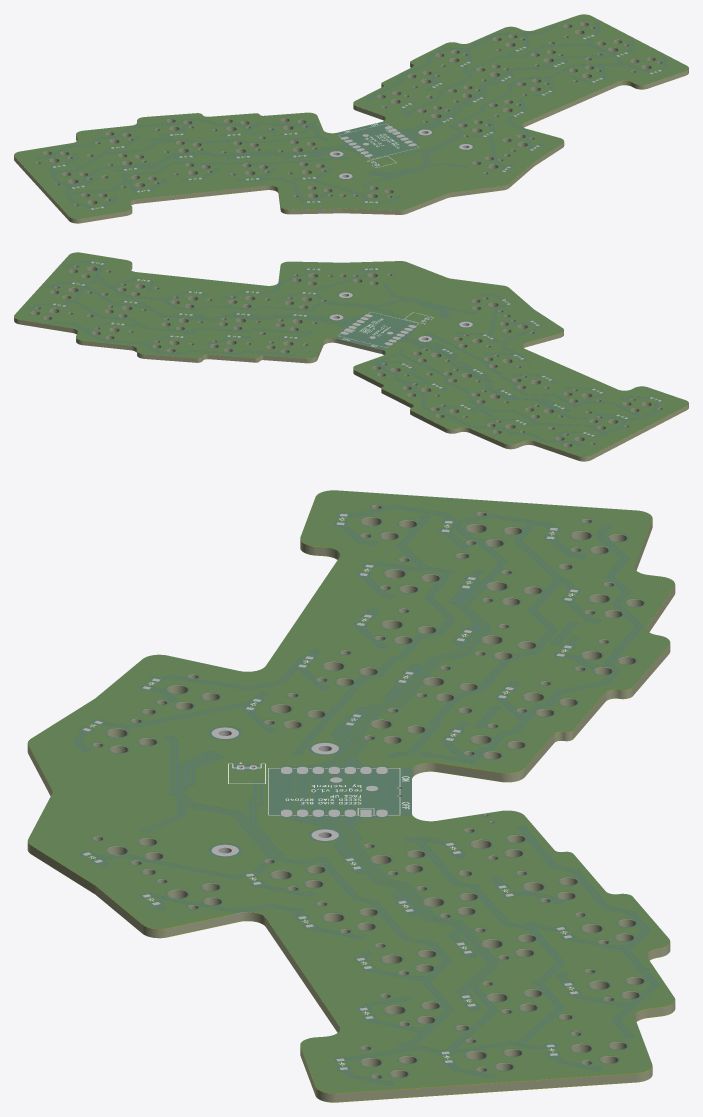
The model's file is board.glb.
The picture shows the model from 3 angles, top to bottom: view 1: azimuth 30°, elevation 25°; view 2: azimuth 150°, elevation 25°; view 3: azimuth 270°, elevation 25°; orthographic projection. The views are drawn at different scales.
Visible parts, largest first — view 1: board_soldermask, board_copper, board_PCB, board_pad, board_silkscreen; view 2: board_soldermask, board_copper, board_PCB, board_pad, board_silkscreen; view 3: board_soldermask, board_copper, board_PCB, board_pad, board_silkscreen.
Part boxes in pixels (left/top/right/bottom): board_soldermask: left=14, top=14, right=688, bottom=218; board_copper: left=14, top=15, right=688, bottom=223; board_PCB: left=14, top=22, right=688, bottom=223; board_pad: left=53, top=35, right=661, bottom=209; board_silkscreen: left=57, top=36, right=656, bottom=208; board_soldermask: left=14, top=252, right=688, bottom=456; board_copper: left=14, top=253, right=688, bottom=461; board_PCB: left=14, top=261, right=688, bottom=461; board_pad: left=53, top=261, right=661, bottom=436; board_silkscreen: left=57, top=262, right=657, bottom=434; board_soldermask: left=28, top=490, right=675, bottom=1093; board_copper: left=27, top=491, right=674, bottom=1102; board_PCB: left=27, top=504, right=675, bottom=1102; board_pad: left=82, top=514, right=577, bottom=1069; board_silkscreen: left=89, top=517, right=574, bottom=1065.
Size of the model in its own units: 0.2281 by 0.00166 by 0.1035.
